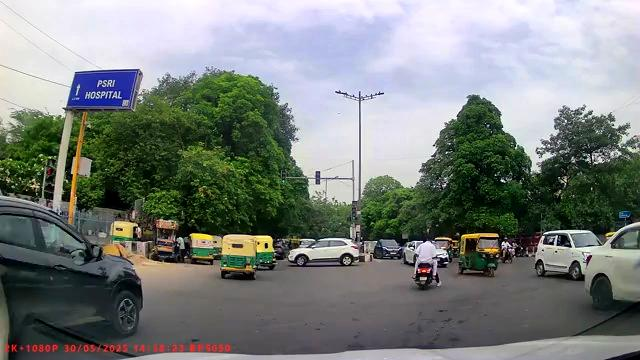motorcycle_with_helmet: (412, 234, 443, 290)
passenger_without_helmet: (412, 234, 443, 290)
